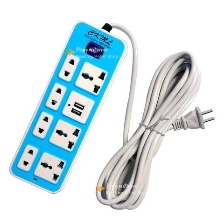three_eye_plug: (6, 14, 129, 195)
